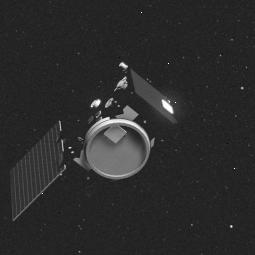proba_3_csc: (10, 54, 178, 219)
